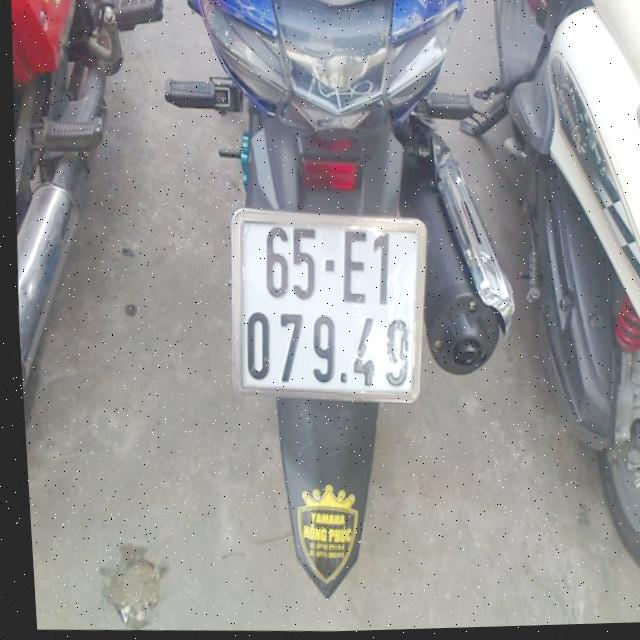motorcycle: (141, 0, 557, 620), (462, 0, 640, 592)
plate: (216, 198, 435, 411)
